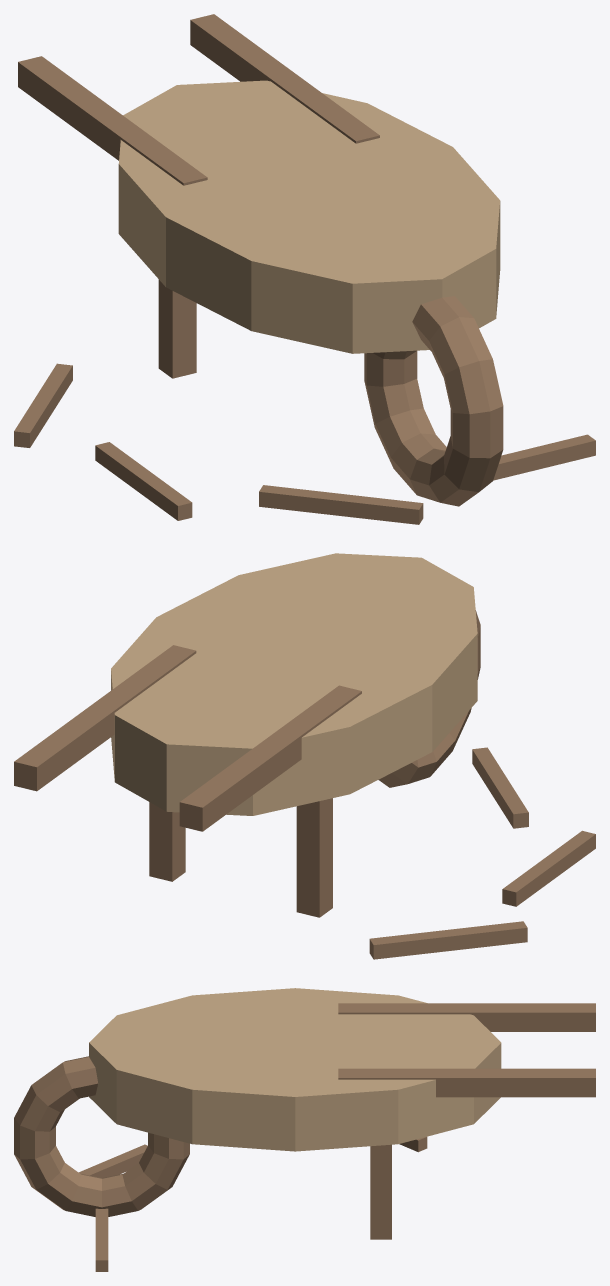
File: wheelbarrow.glb
The picture shows the model from 3 angles, top to bottom: view 1: azimuth 30°, elevation 25°; view 2: azimuth 150°, elevation 25°; view 3: azimuth 270°, elevation 25°; orthographic projection. The views are drawn at different scales.
Visible parts, largest first — view 1: Wheelbarrow; view 2: Wheelbarrow; view 3: Wheelbarrow.
Part boxes in pixels (box(x1,y1,x2,y2)): Wheelbarrow: box(14, 14, 595, 524); Wheelbarrow: box(14, 553, 595, 959); Wheelbarrow: box(14, 988, 595, 1271).
Bounding box in the file's own units: 0.8921 × 0.455 × 1.35.
